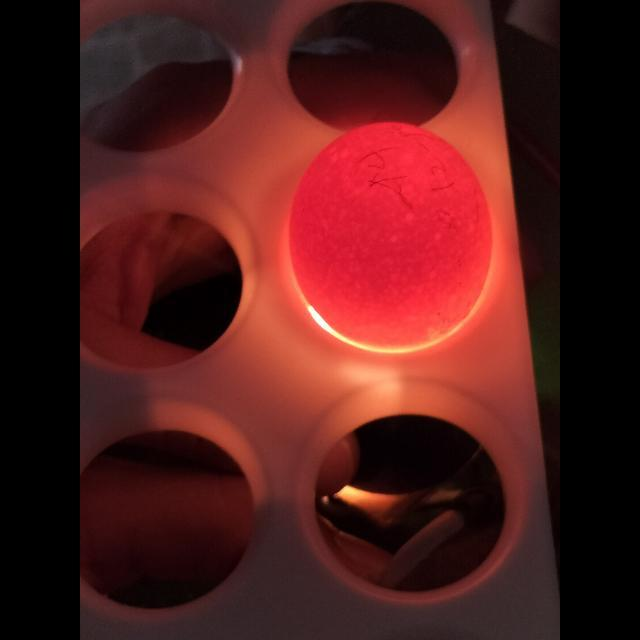Infertile: (285, 121, 493, 349)
